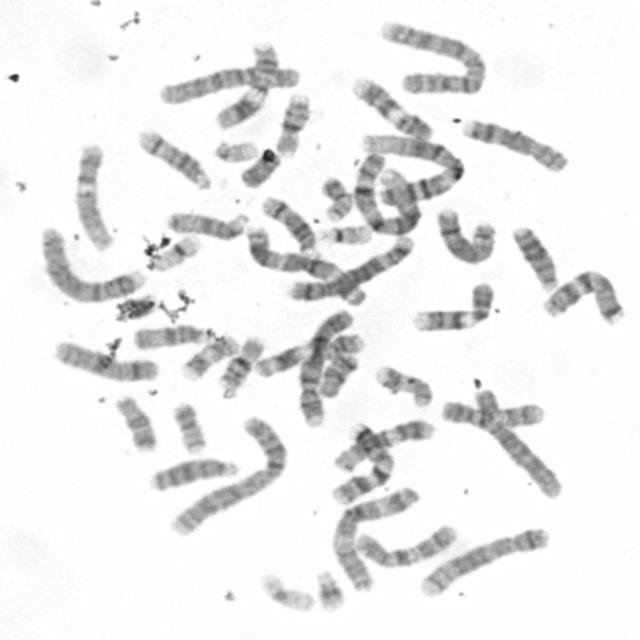A1: (355, 131, 466, 204), (349, 150, 423, 236)
A2: (165, 411, 291, 538), (375, 16, 490, 96)
A3: (243, 222, 369, 307), (326, 482, 421, 593)
B4: (36, 223, 148, 305), (292, 306, 357, 430)
B5: (416, 522, 553, 599), (283, 231, 419, 304)
C10: (349, 519, 460, 571), (444, 400, 548, 425)
C11: (210, 40, 282, 131), (249, 329, 367, 379)
C12: (328, 416, 437, 474), (70, 141, 117, 252)
C6: (477, 383, 562, 501), (154, 61, 303, 107)
C7: (327, 420, 396, 504), (538, 266, 626, 326)
C8: (459, 113, 570, 175), (432, 203, 498, 267)
C9: (349, 73, 435, 143), (408, 279, 496, 333)
D13: (146, 453, 242, 494), (508, 221, 559, 292)
D14: (133, 126, 214, 193), (256, 192, 318, 253)
D15: (164, 207, 252, 241), (129, 321, 216, 352)
E16: (213, 332, 267, 393), (271, 90, 313, 158)
E17: (177, 331, 241, 383), (371, 361, 434, 409)
E18: (111, 390, 159, 453), (314, 349, 360, 399)
F19: (255, 568, 318, 616), (142, 233, 204, 273)
F20: (168, 397, 210, 455), (316, 174, 354, 223)
G21: (310, 566, 349, 613), (111, 295, 156, 322)
G22: (209, 136, 261, 165), (314, 221, 374, 246)
X: (48, 337, 160, 384)
Y: (236, 146, 282, 189)
